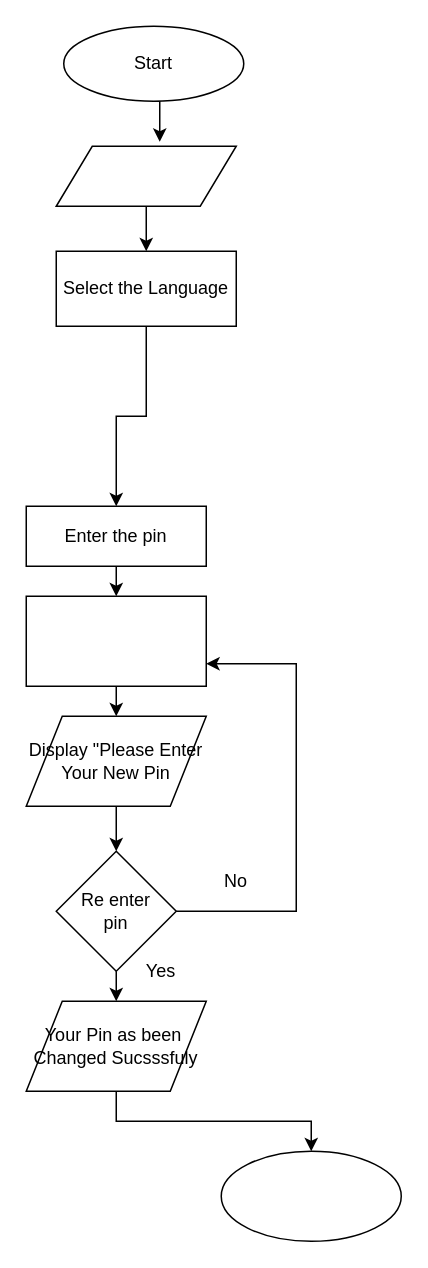
This 428x1268 diagram has some shape labels left out. Here are the shapes that lost their labels. From the top down, the centre of each, then its label:
At (x=145, y=175): "Insert Card".
At (x=115, y=640): "Select Pin Change Option".
At (x=310, y=1195): "stop".
